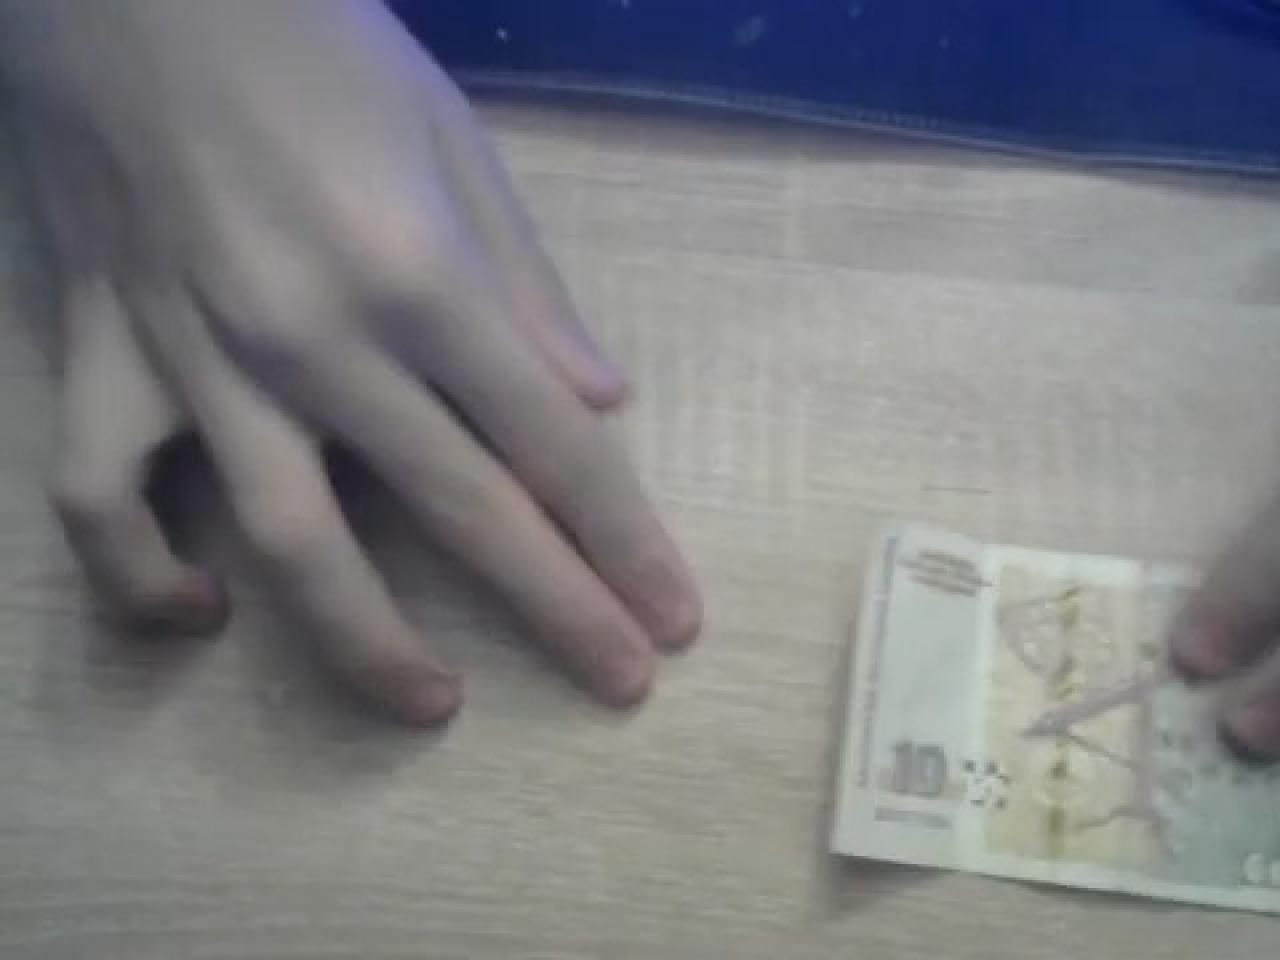10leva: (824, 522, 1280, 918)
